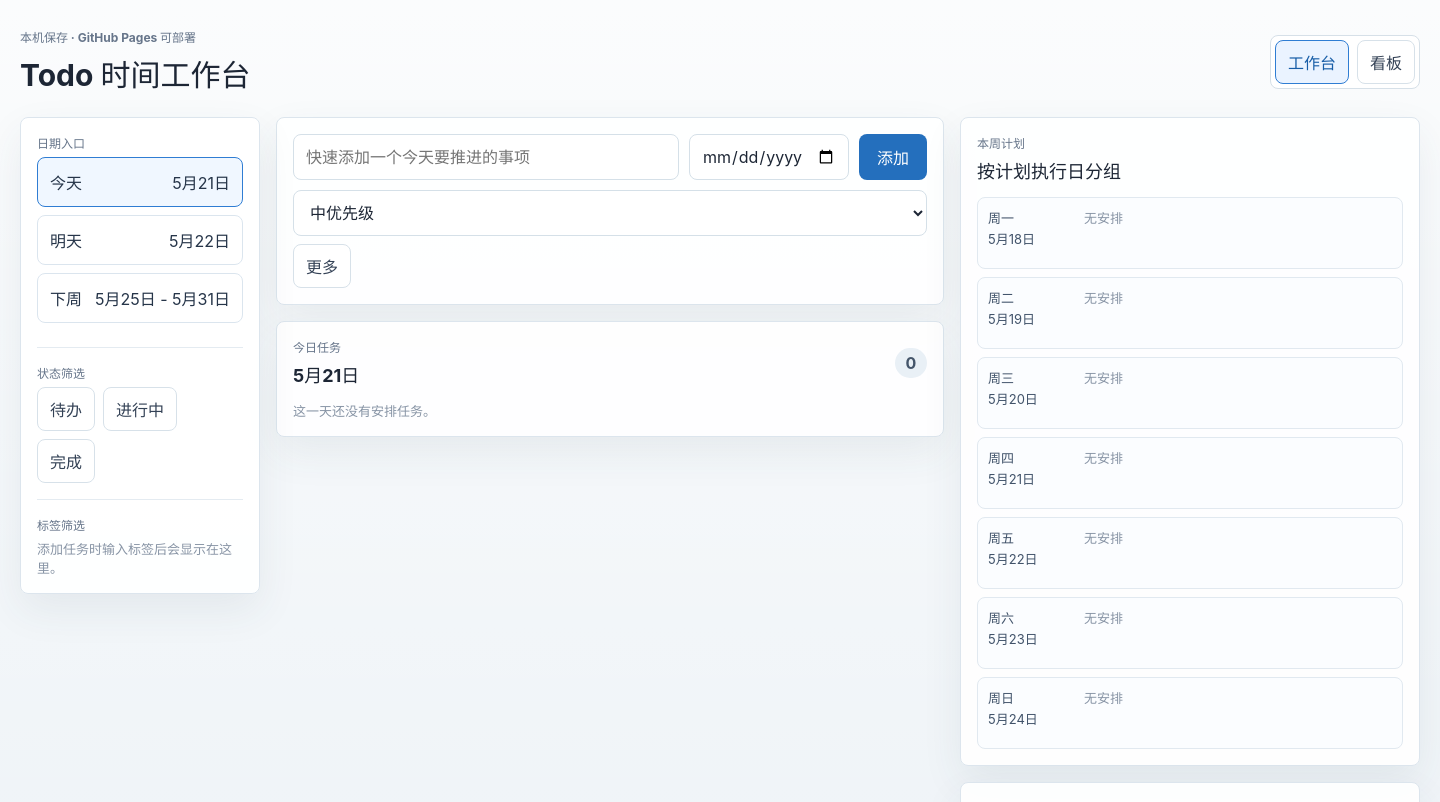
Scenario: App workbench › switches the date entry to tomorrow and adds tasks to that selected date
The image size is (1440, 802).
Click the button "明天 5月22日" at (140, 240), box x1=37 y1=215 x2=243 y2=265
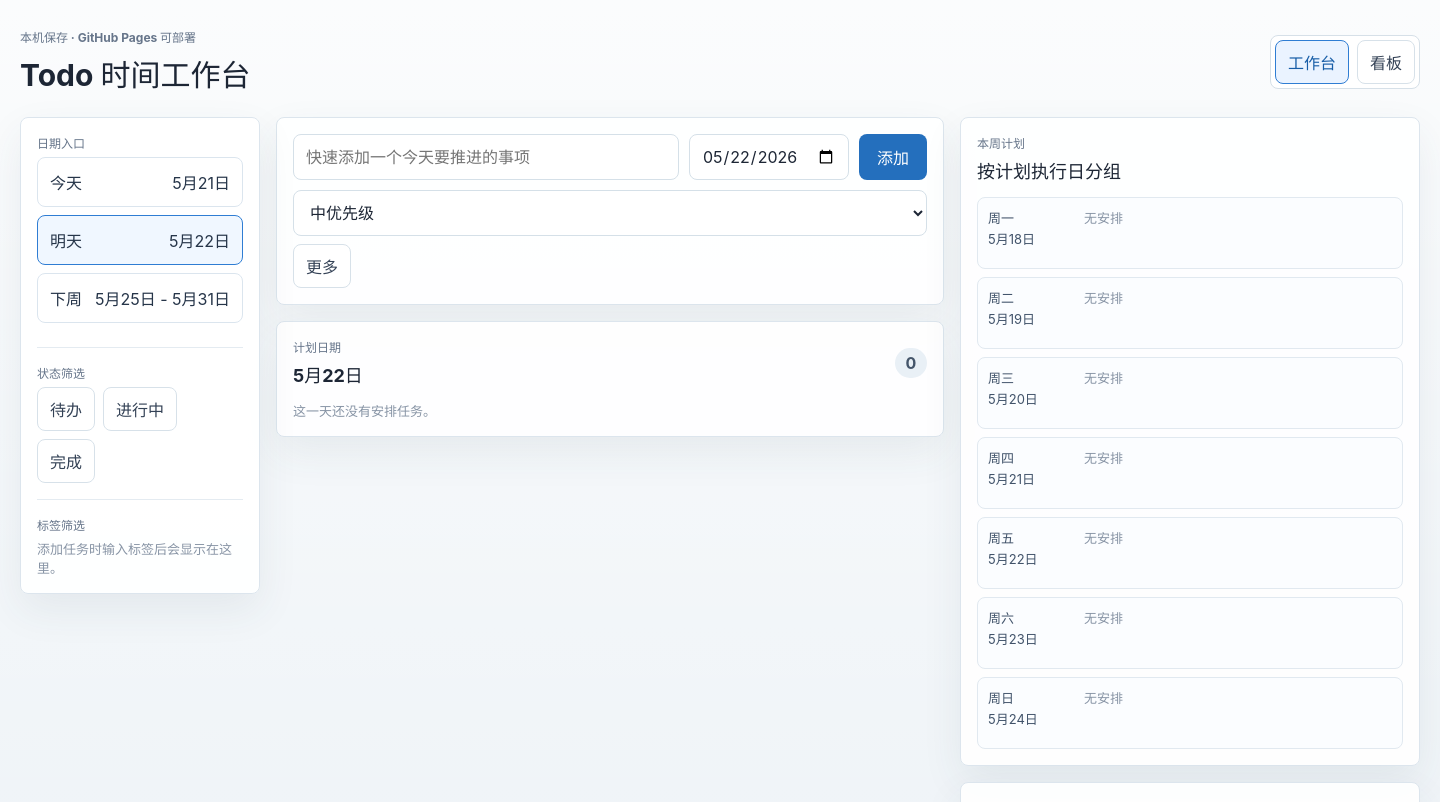
Expected: the text "5月22日" is shown, x1=169 y1=228 x2=230 y2=252
Expected: the date field named "计划执行日" holds "2026-05-22", x1=689 y1=134 x2=849 y2=180
Expected: the text "计划日期" is shown, x1=293 y1=340 x2=341 y2=355
Type "明天跟进设计" into the field with test id "quick-title" at (486, 157), box x1=293 y1=134 x2=679 y2=180
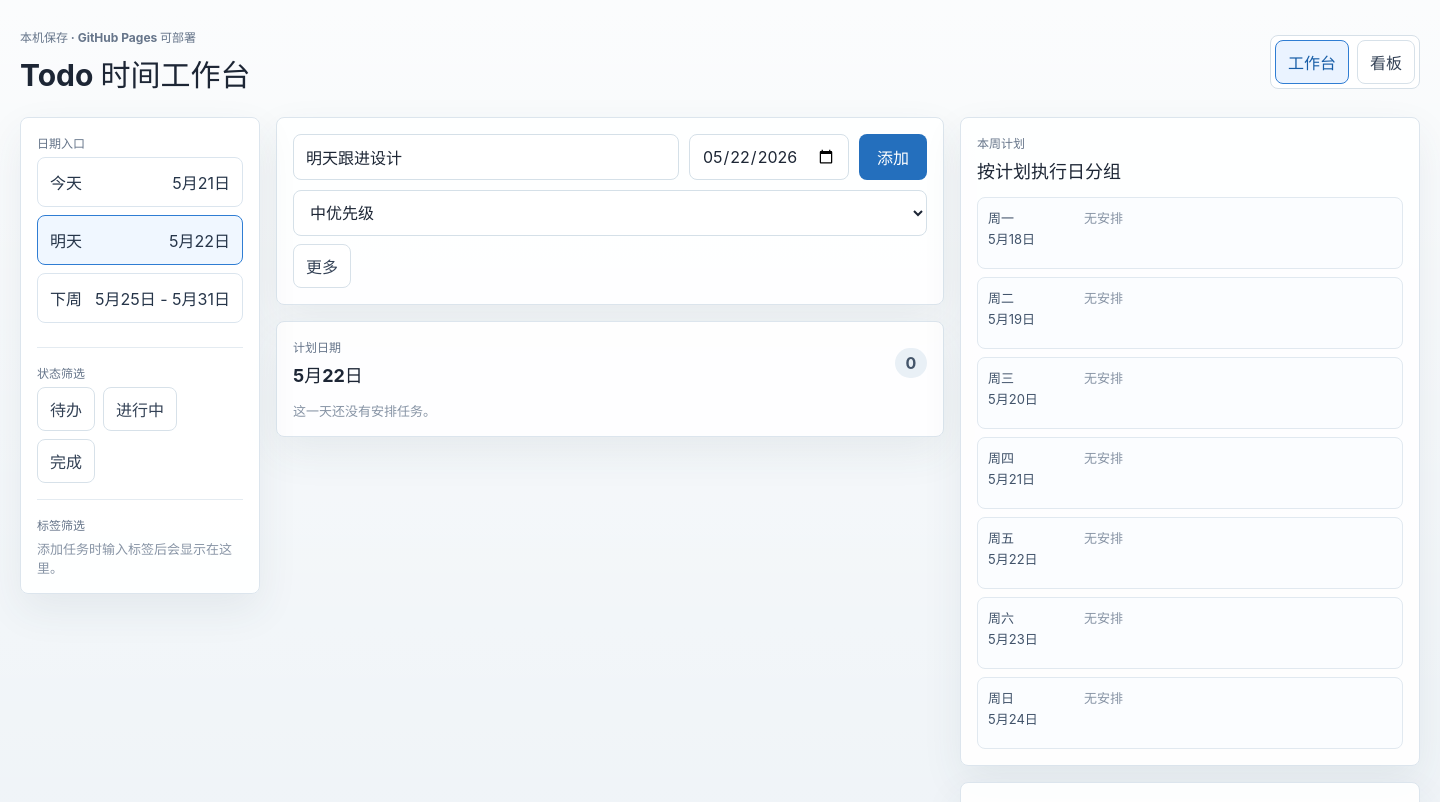
Submit the form with test id "quick-add", box x1=276 y1=117 x2=944 y2=305
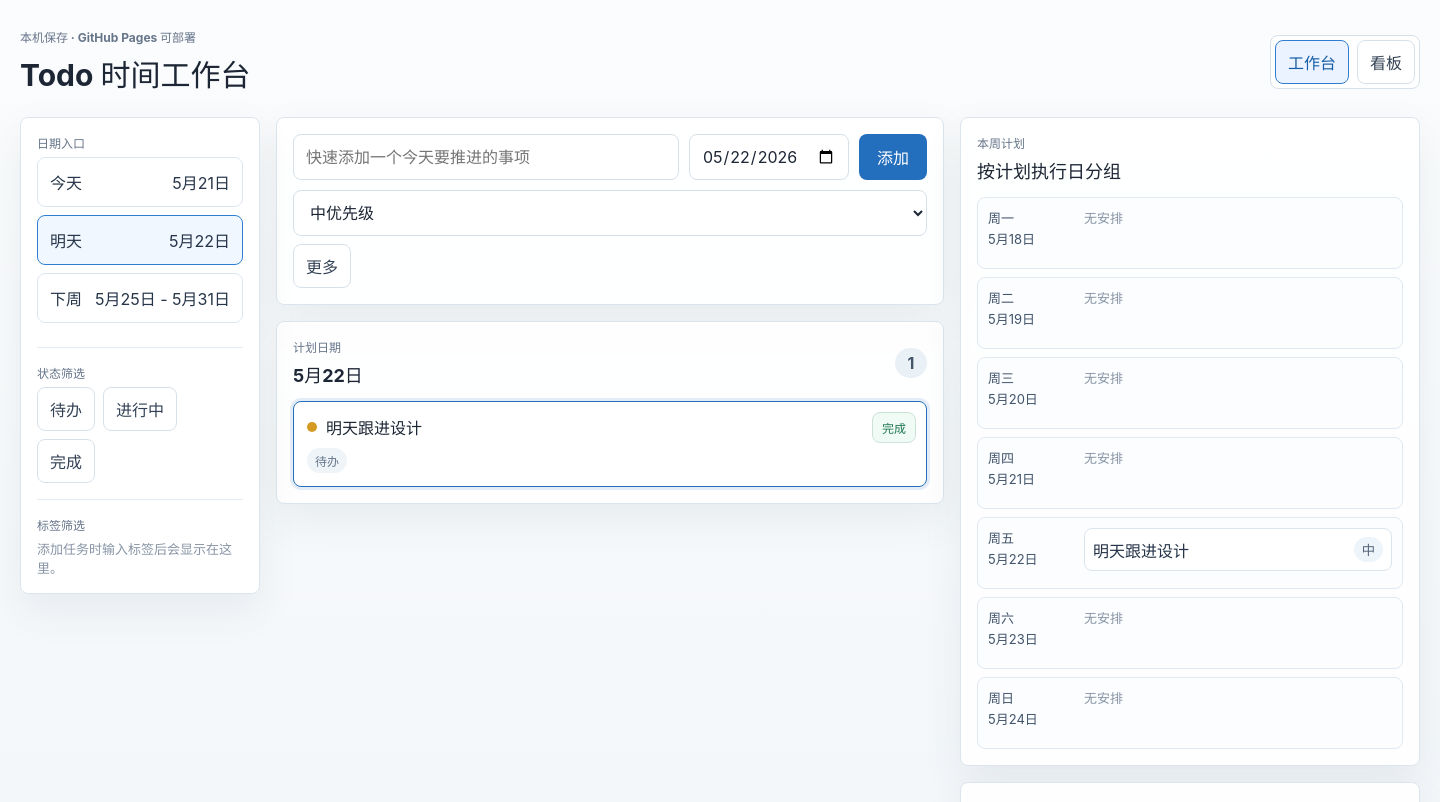
Expected: the text "明天跟进设计" is shown, x1=326 y1=415 x2=422 y2=439
